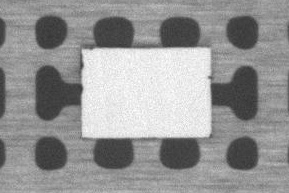DIE_BROKEN: (79, 51, 86, 72)
